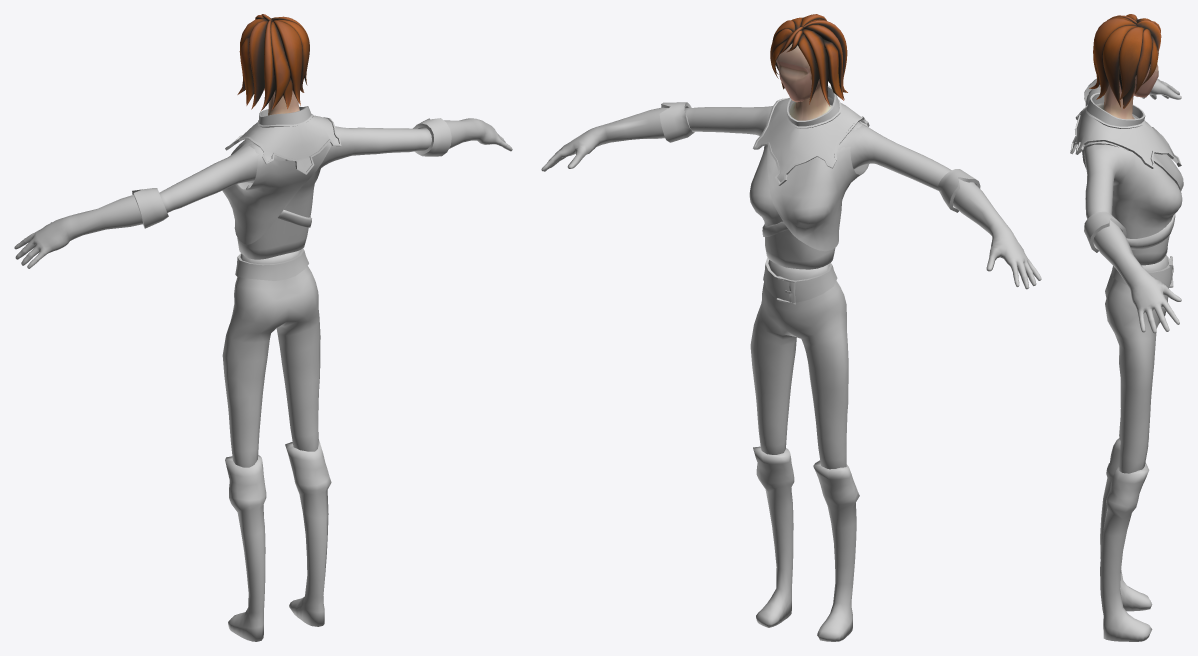
Rendered from Mercinary_character1.fbx.
3 renders of one model, left to right at view 1: azimuth 30°, elevation 25°; view 2: azimuth 150°, elevation 25°; view 3: azimuth 270°, elevation 25°, orthographic.
Parts seen in each view (by area): view 1: merc_body.002, merc_head.002; view 2: merc_body.002, merc_head.002; view 3: merc_body.002, merc_head.002.
Part boxes in pixels (box(x1,y1,x2,y2)): merc_body.002: box(14, 106, 512, 641); merc_head.002: box(237, 14, 309, 115); merc_body.002: box(541, 85, 1041, 641); merc_head.002: box(770, 14, 847, 120); merc_body.002: box(1070, 78, 1183, 641); merc_head.002: box(1089, 14, 1161, 119).
Bounding box in the file's own units: 30.55 × 150 × 179.
